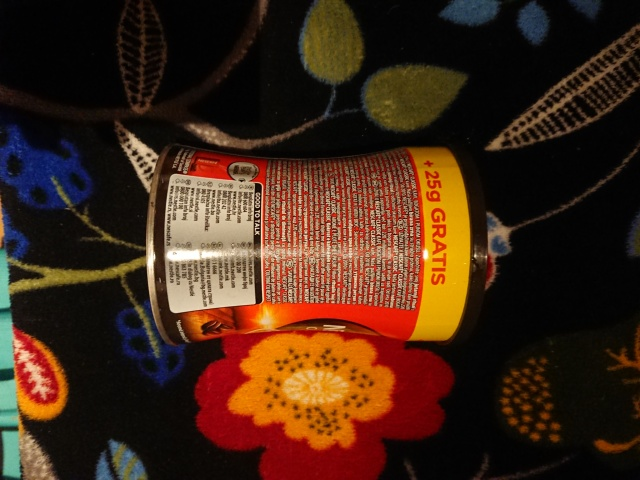Nescafe Classic 225g: (140, 137, 492, 351)
